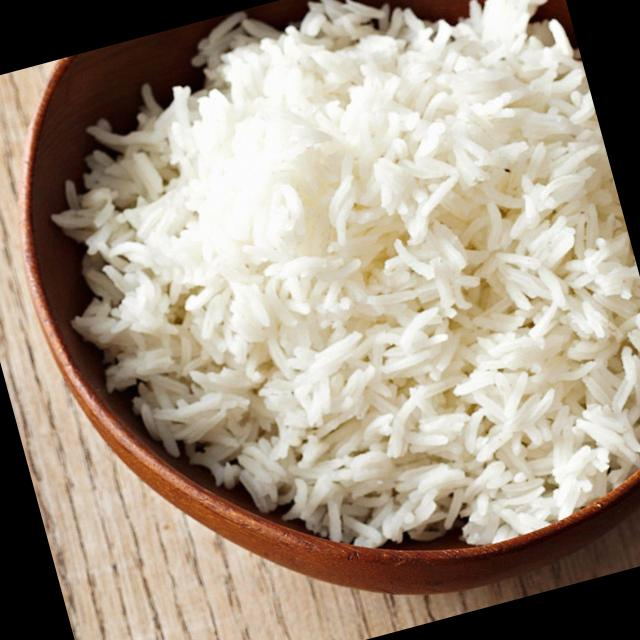rice: (64, 0, 640, 539)
